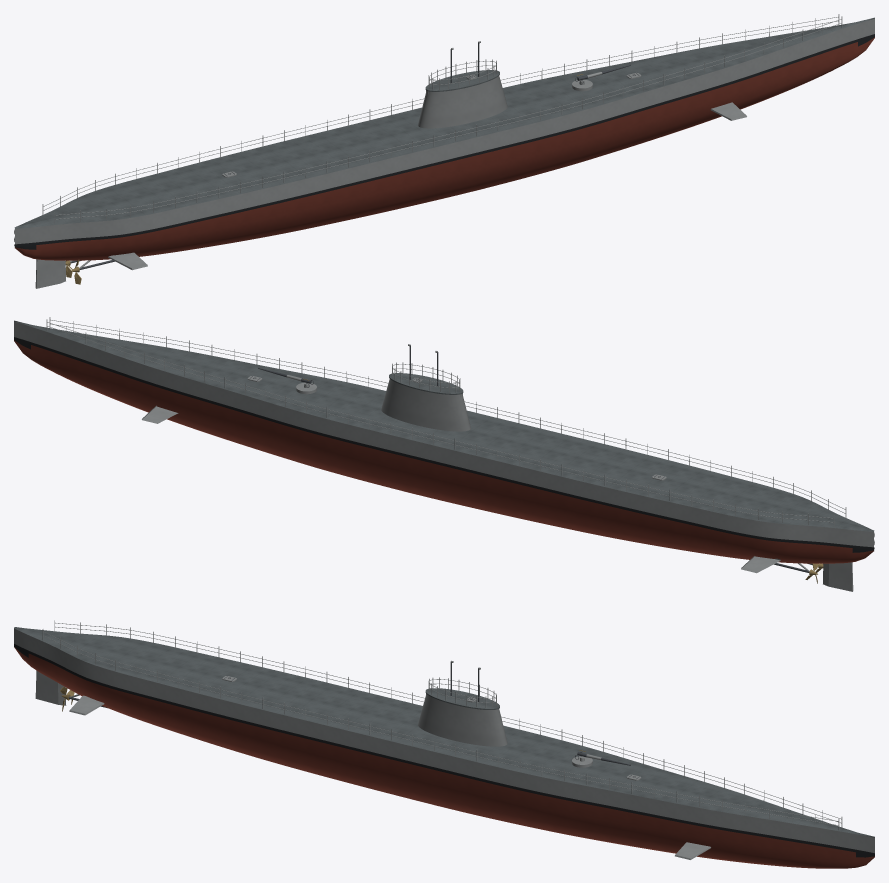
File: ocean_ss29.glb
The picture shows the model from 3 angles, top to bottom: view 1: azimuth 30°, elevation 25°; view 2: azimuth 150°, elevation 25°; view 3: azimuth 330°, elevation 25°; orthographic projection.
Parts seen in each view (by area): view 1: Okean patrol submarine; view 2: Okean patrol submarine; view 3: Okean patrol submarine.
Boxes of the visible parts, x1=… form: Okean patrol submarine: x1=14, y1=14, x2=874, y2=288; Okean patrol submarine: x1=14, y1=317, x2=874, y2=591; Okean patrol submarine: x1=14, y1=620, x2=874, y2=868.
Bounding box in the file's own units: 81 × 12.88 × 10.27.
Materials: 6 (6 with a texture image).
